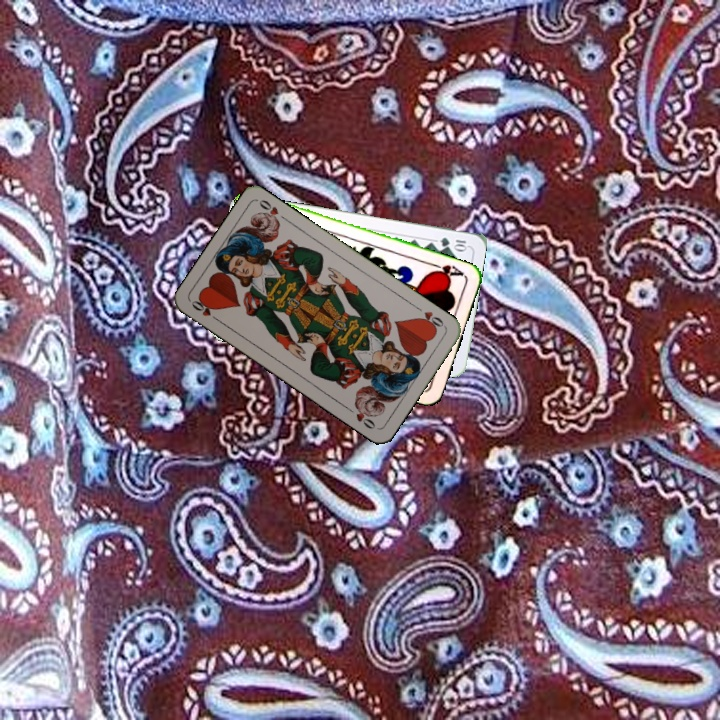G10: (436, 233, 470, 252)
HA: (426, 259, 467, 281)
HO: (411, 302, 447, 333), (187, 295, 223, 325)
